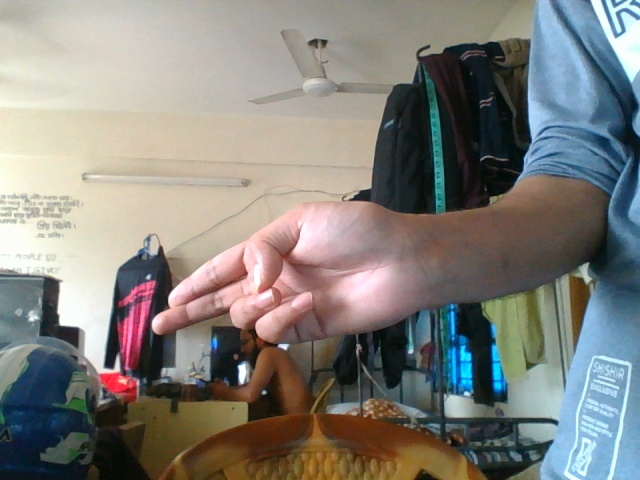ha: (144, 192, 525, 348)
